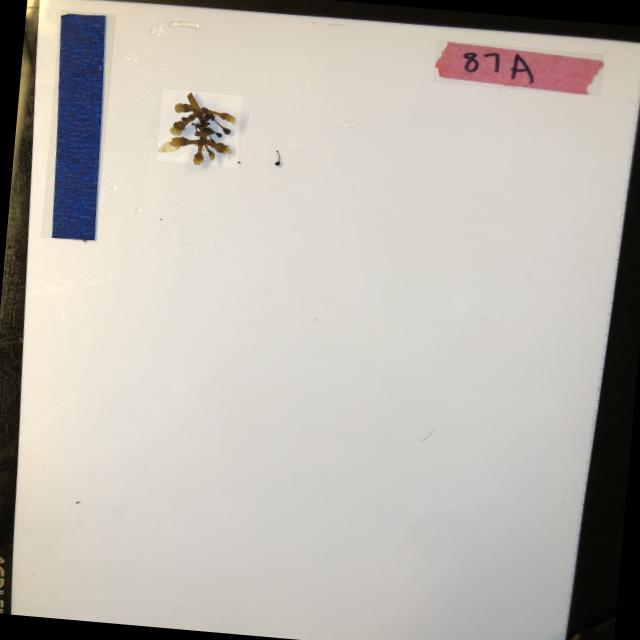index: (432, 39, 604, 97)
measure_label: (40, 9, 116, 242)
rachis_cluster: (156, 88, 242, 167)
